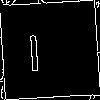I: (24, 25, 43, 72)
